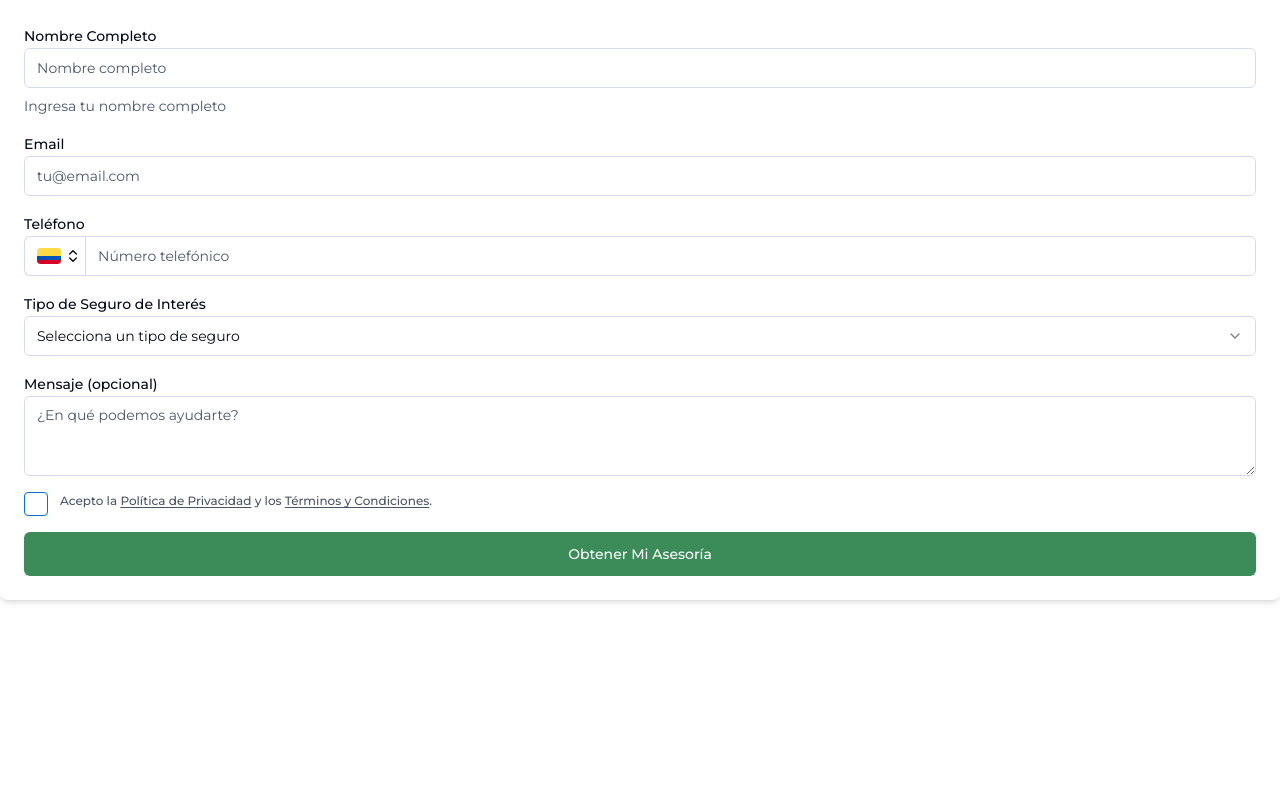
LeadForm › Form Validation › shows the insurance type message on submit when none is selected
The width and height of the screenshot is (1280, 800).
Step 1. Type "Test User" into the field labelled "Nombre Completo" → (640, 68), box [24, 48, 1256, 88]
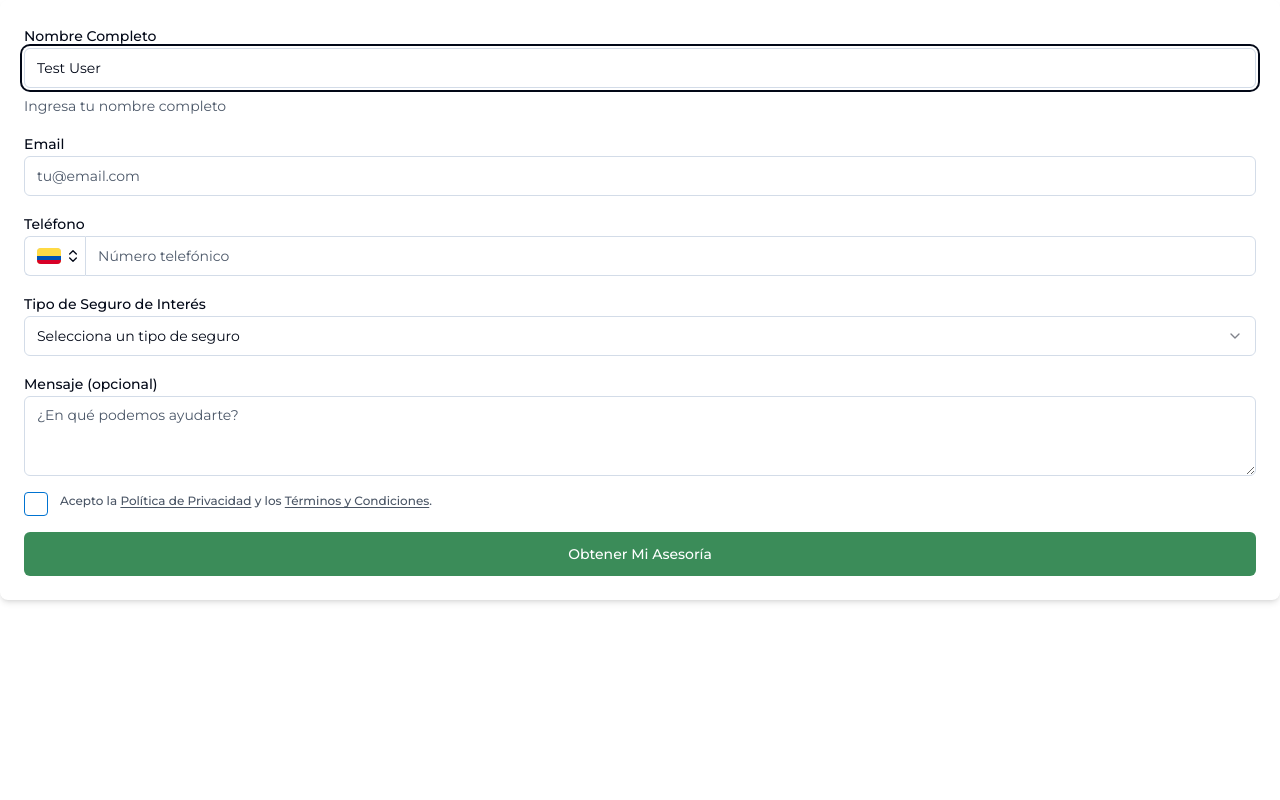
Step 2. Type "test@example.com" into the field labelled "Email" → (640, 176), box [24, 156, 1256, 196]
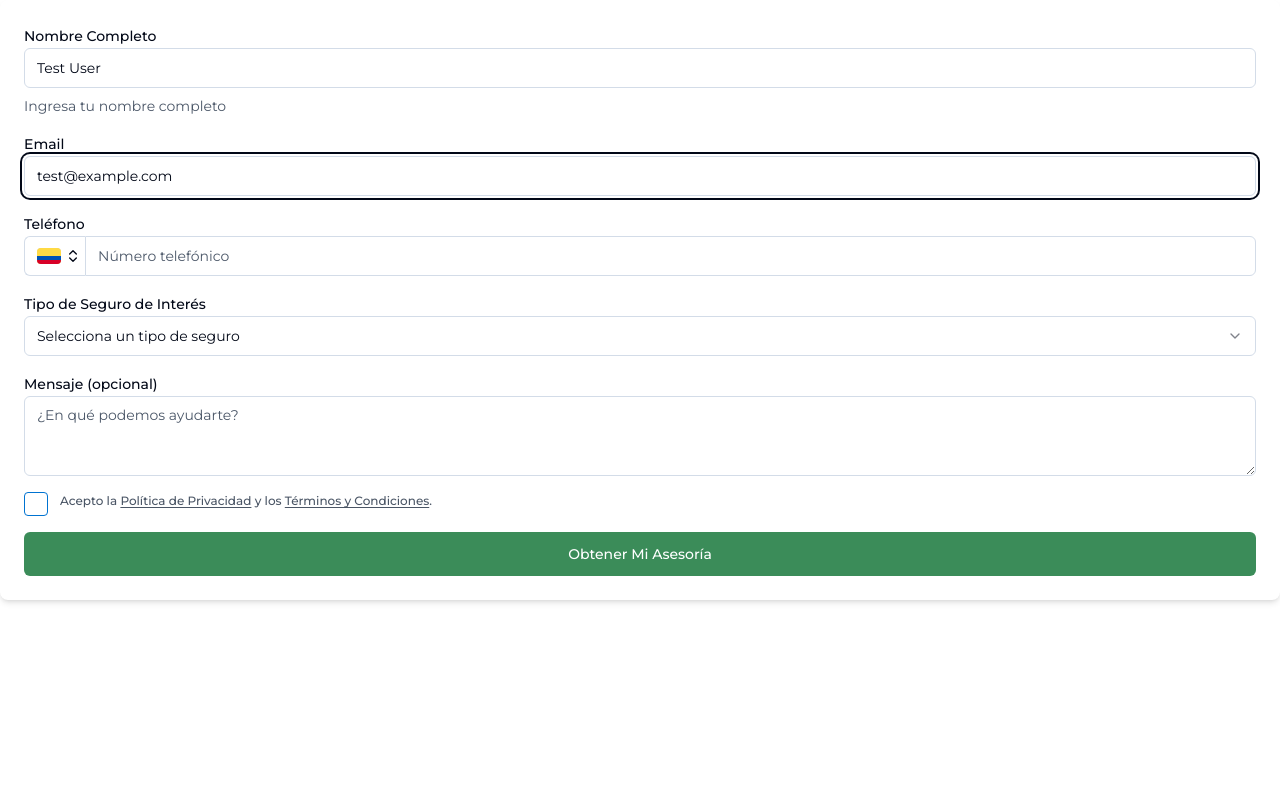
Step 3. Type "+573001234567" into the field labelled "Teléfono" → (670, 256), box [85, 236, 1256, 276]
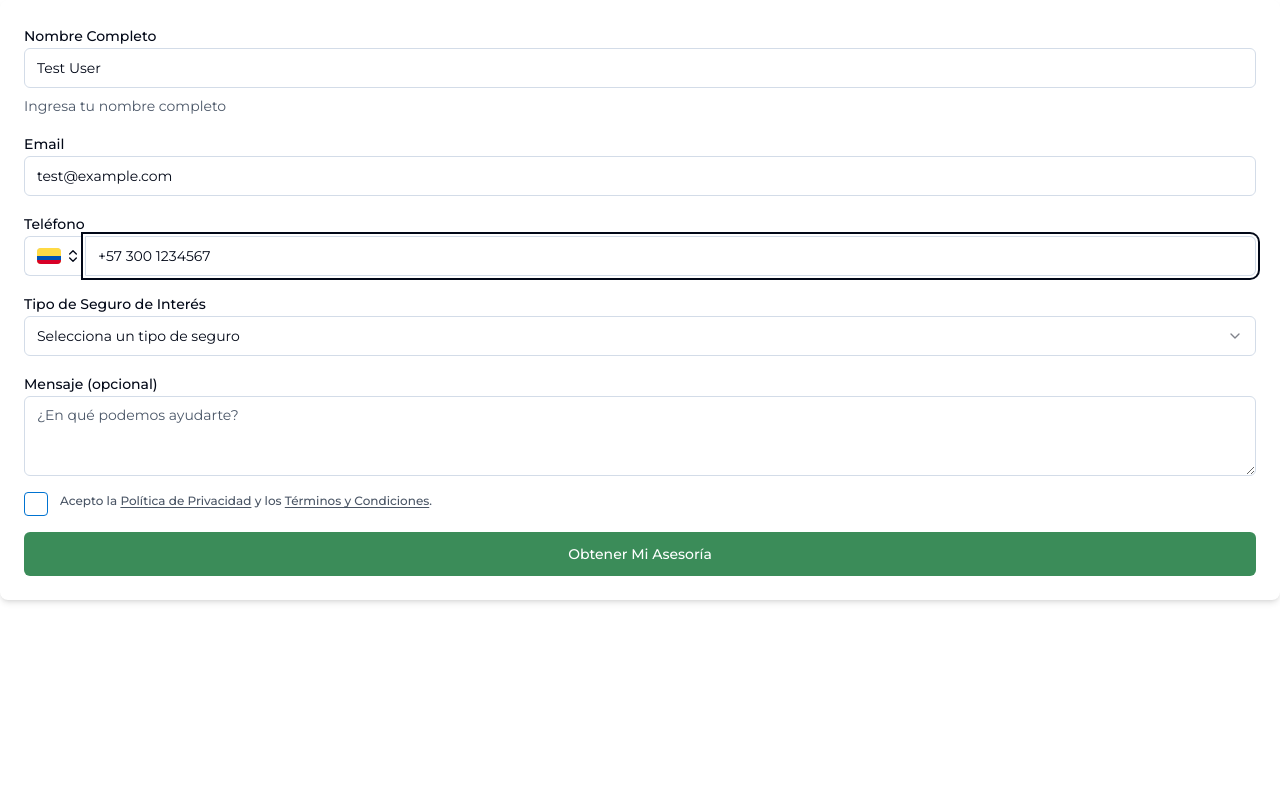
Step 4. Click the checkbox → (36, 504), box [24, 492, 48, 516]
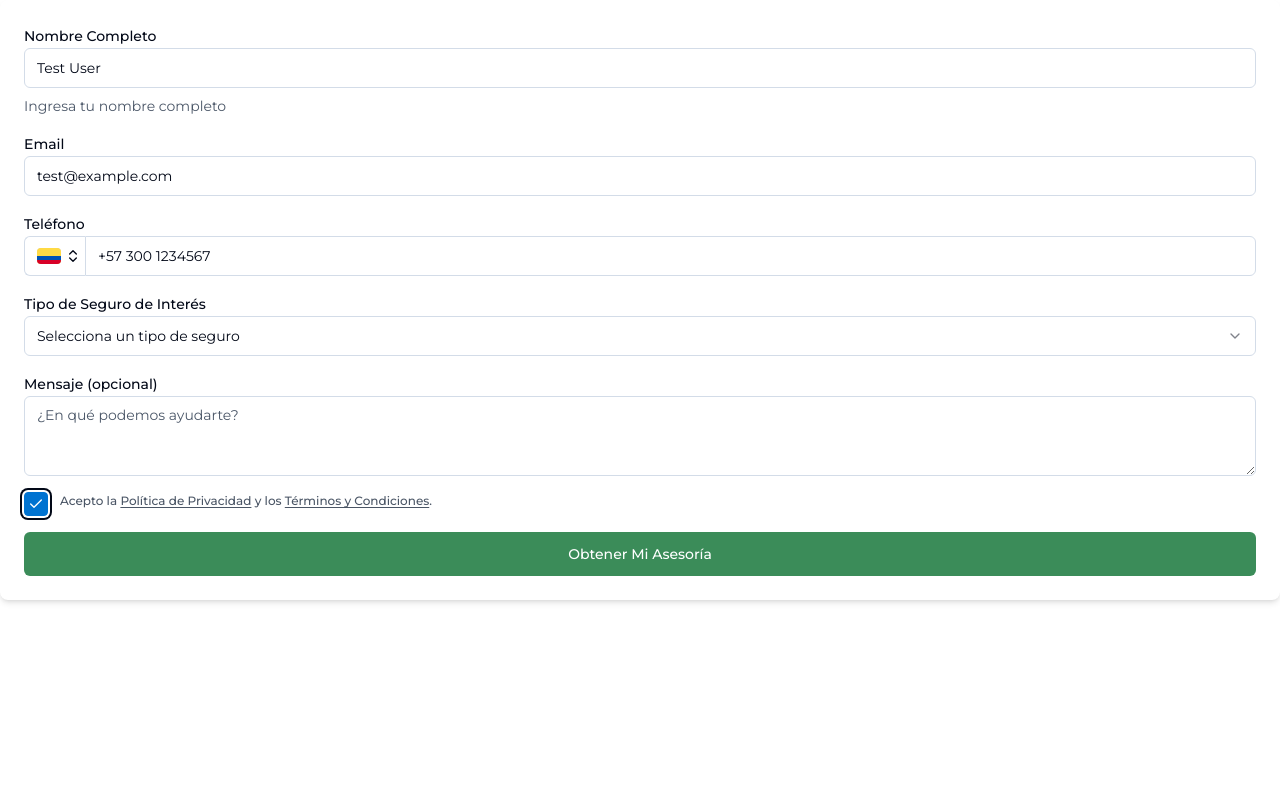
Step 5. Click the button "Obtener Mi Asesoría" → (640, 554), box [24, 532, 1256, 576]
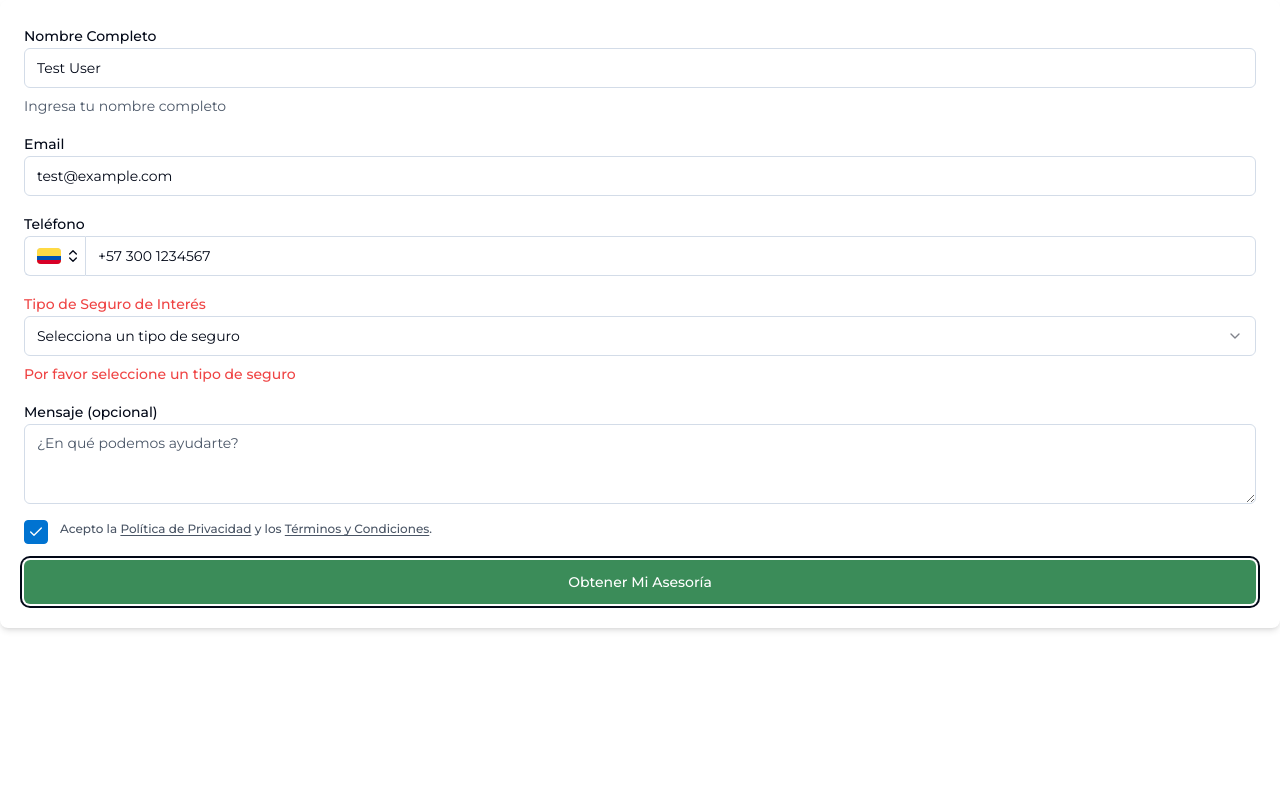
Check: the text "Por favor seleccione un tipo de seguro" is shown, box [24, 365, 296, 383]
